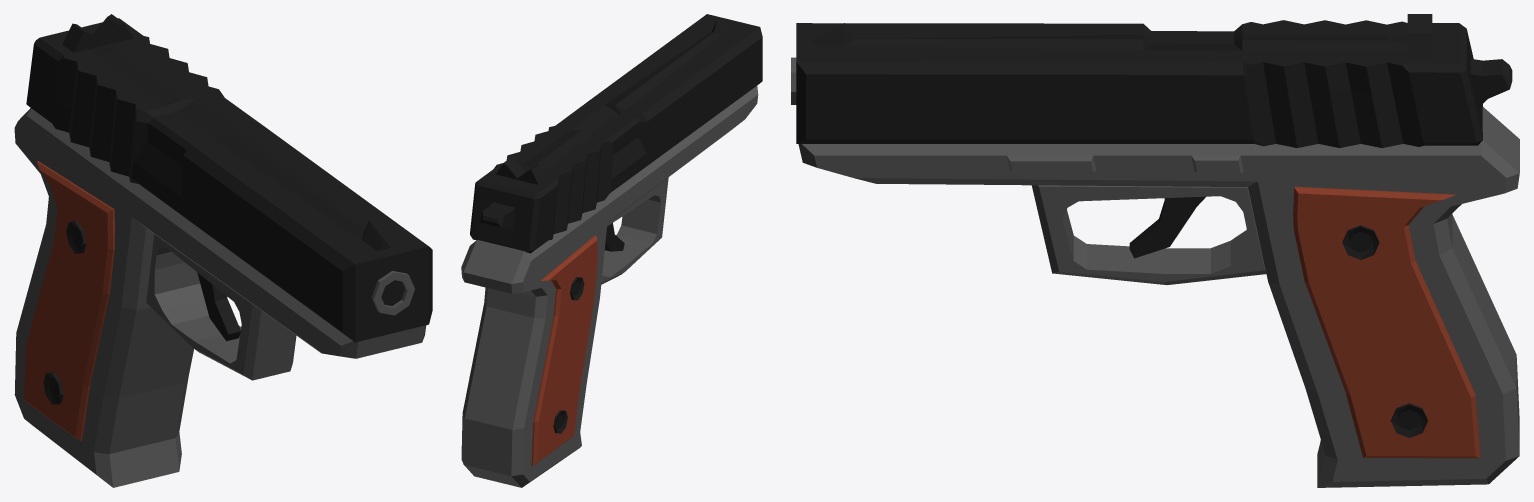
File: Pistol.fbx
The picture shows the model from 3 angles, left to right: view 1: azimuth 30°, elevation 25°; view 2: azimuth 150°, elevation 25°; view 3: azimuth 270°, elevation 25°; orthographic projection. The views are drawn at different scales.
Parts seen in each view (by area): view 1: Pistol, Slide; view 2: Pistol, Slide; view 3: Pistol, Slide.
Part boxes in pixels (bbox=[...]): Pistol: bbox=[14, 108, 426, 487]; Slide: bbox=[26, 14, 432, 342]; Pistol: bbox=[461, 86, 758, 487]; Slide: bbox=[470, 14, 762, 253]; Pistol: bbox=[791, 57, 1519, 487]; Slide: bbox=[796, 14, 1512, 147].
Size of the model in its own units: 0.0978 by 0.3893 by 0.5736.
